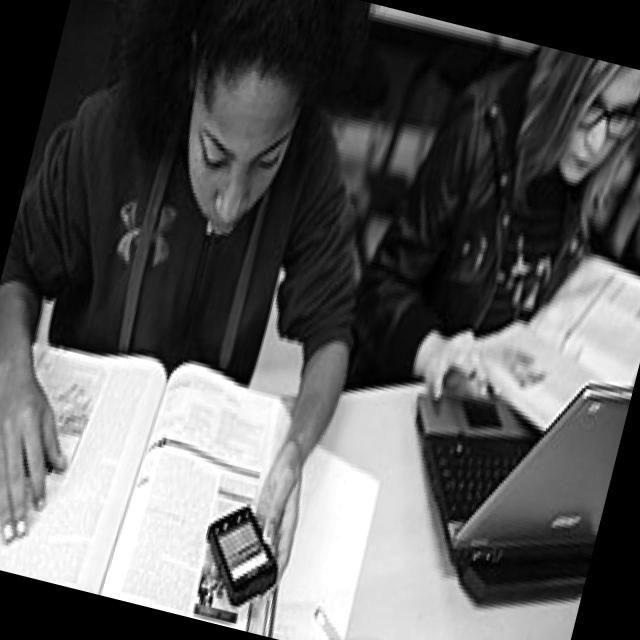phone: (192, 496, 292, 614)
